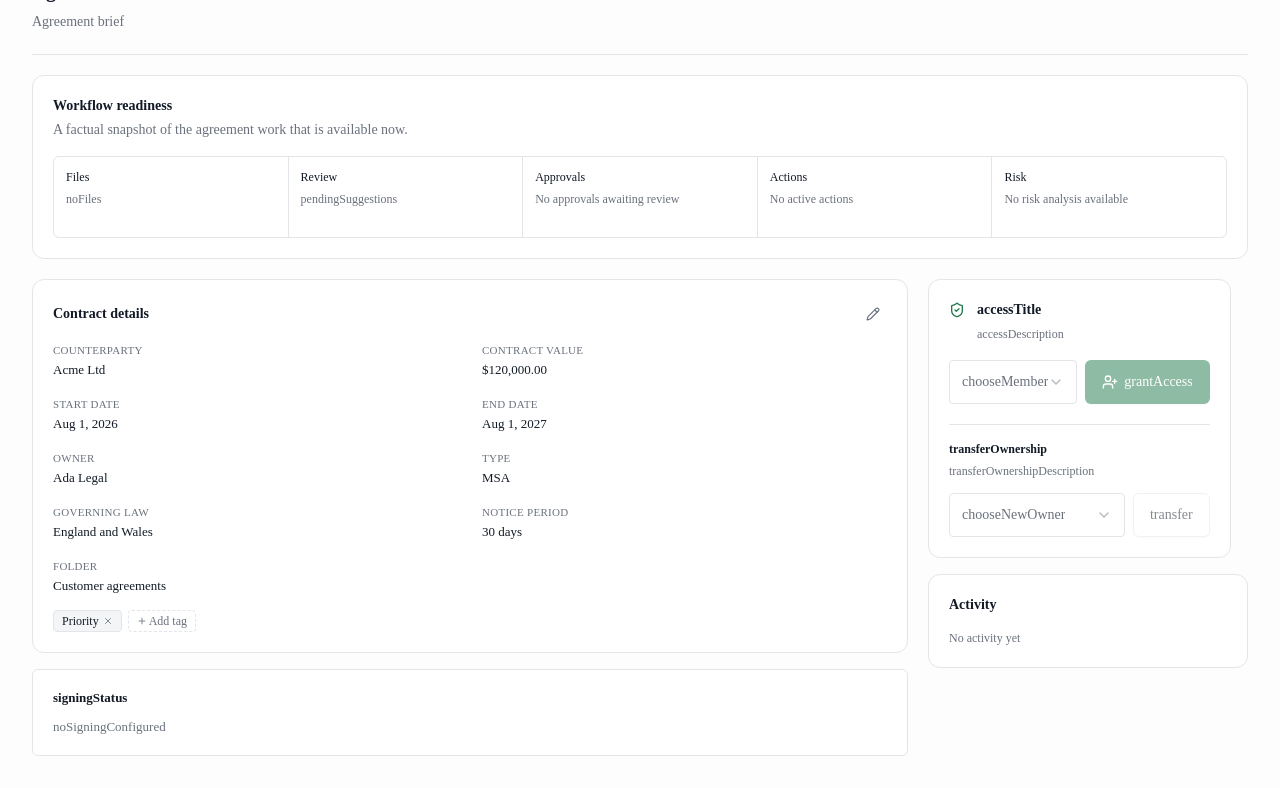
contract workspace responsive hierarchy › does not leave tag entry behind as a hard-coded English control
(page scrolled)
Click the button "Add tag": (162, 620) [128,610,196,632]
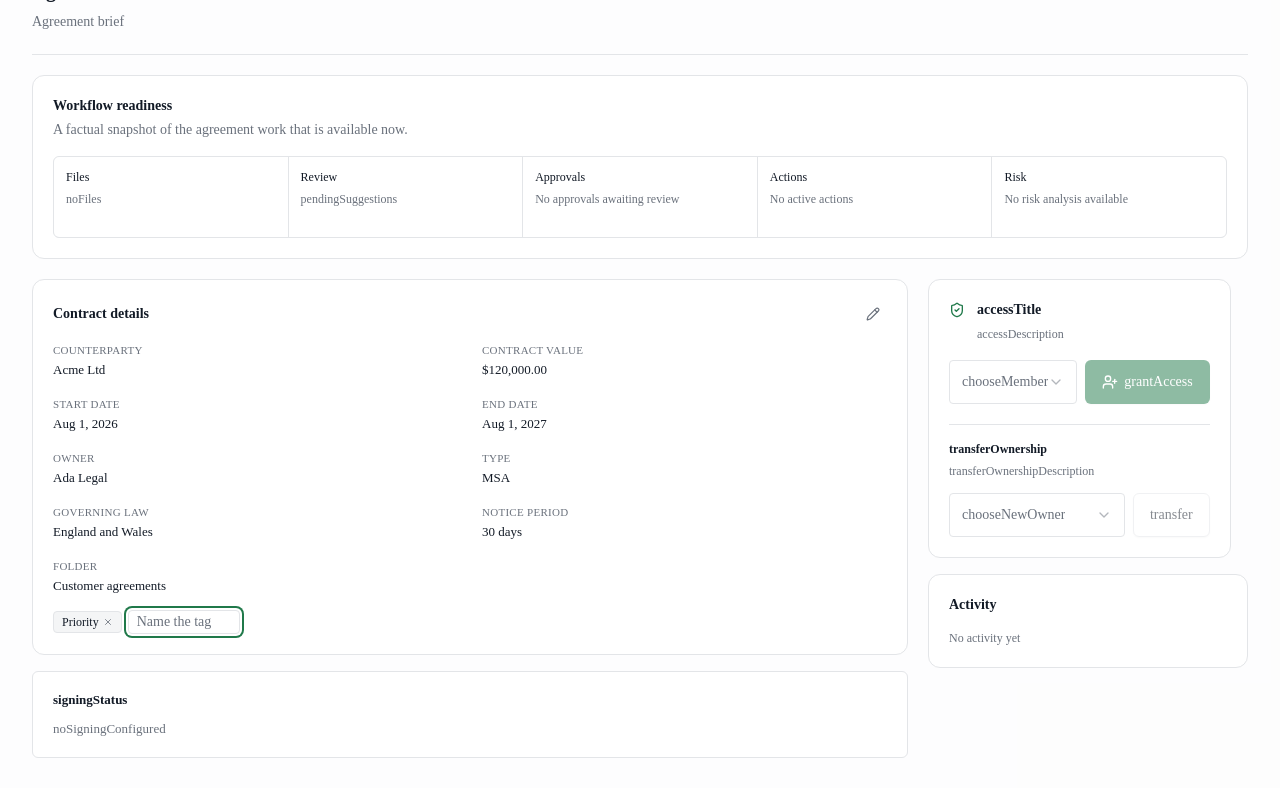
Check: the field with placeholder "Name the tag" is shown, box [128,610,240,634]
